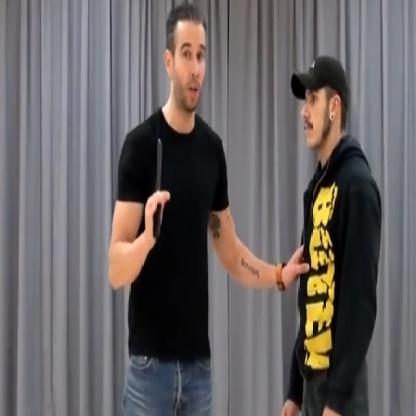knife: (147, 134, 170, 238)
